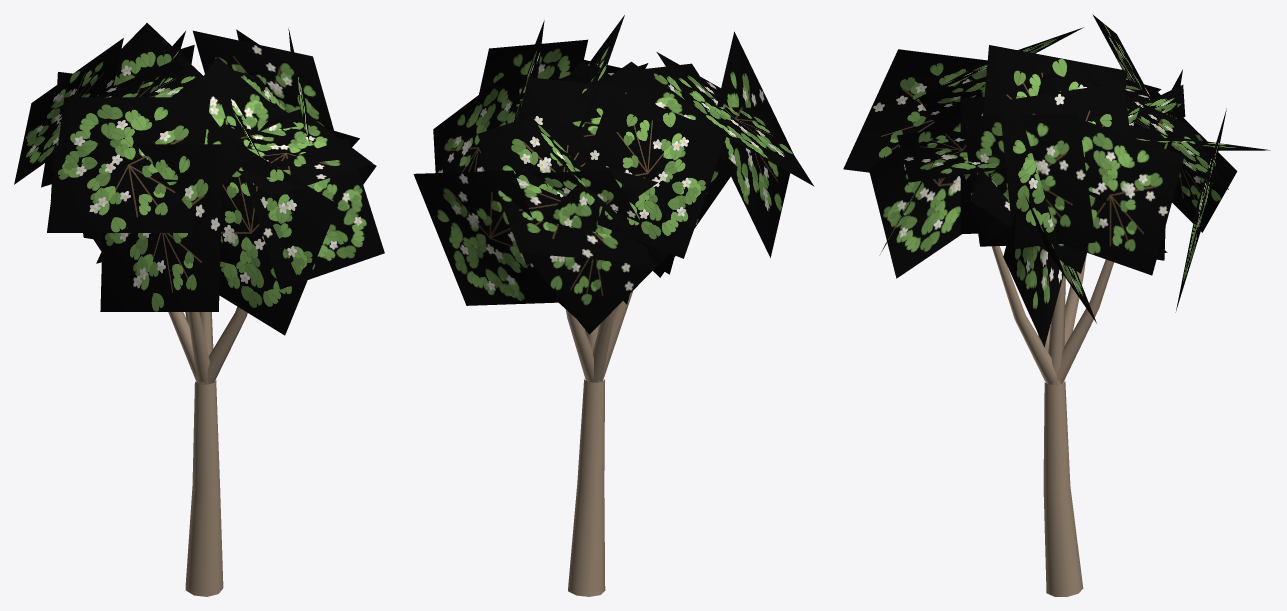
The model's file is bauhinia-forficata.glb.
3 views of the same model, side by side, from view 1: azimuth 30°, elevation 25°; view 2: azimuth 150°, elevation 25°; view 3: azimuth 270°, elevation 25° (orthographic). The views are drawn at different scales.
Parts seen in each view (by area): view 1: folhas, tronco; view 2: folhas, tronco; view 3: folhas, tronco.
Boxes of the visible parts, x1,y1,x2,y2 form: folhas: [14, 23, 384, 335]; tronco: [168, 306, 247, 596]; folhas: [413, 15, 814, 334]; tronco: [565, 291, 632, 596]; folhas: [843, 14, 1270, 347]; tronco: [991, 246, 1113, 596].
Bounding box in the file's own units: 4.48 × 7 × 5.
Materials: 2 (1 with a texture image).
